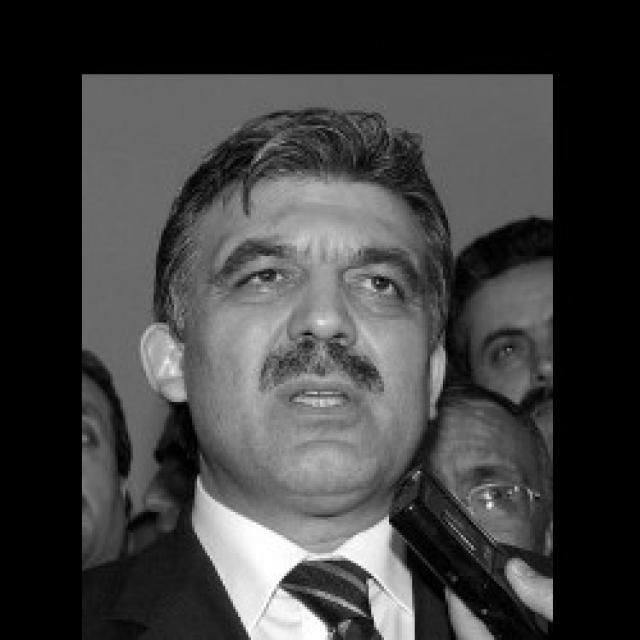real: (190, 170, 439, 504), (215, 239, 415, 309)
